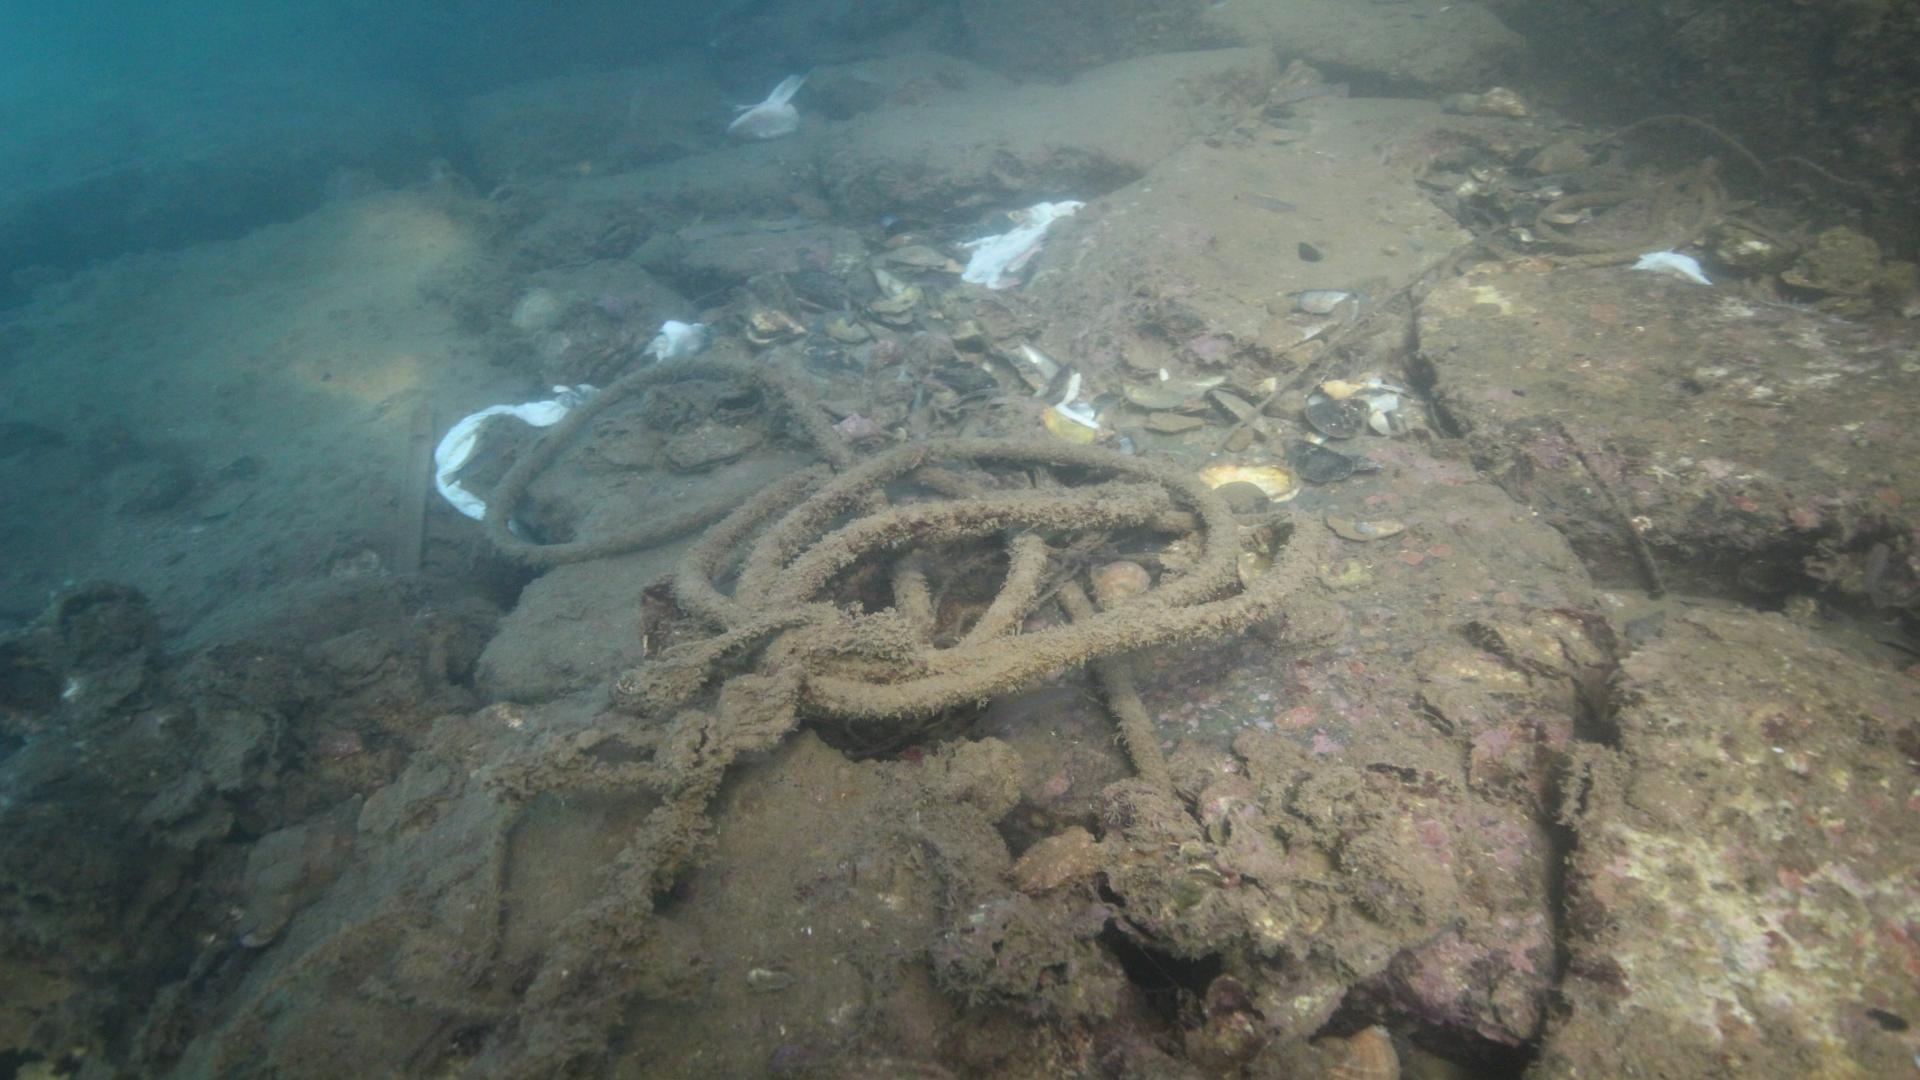bundle of ropes: (477, 342, 1327, 824)
